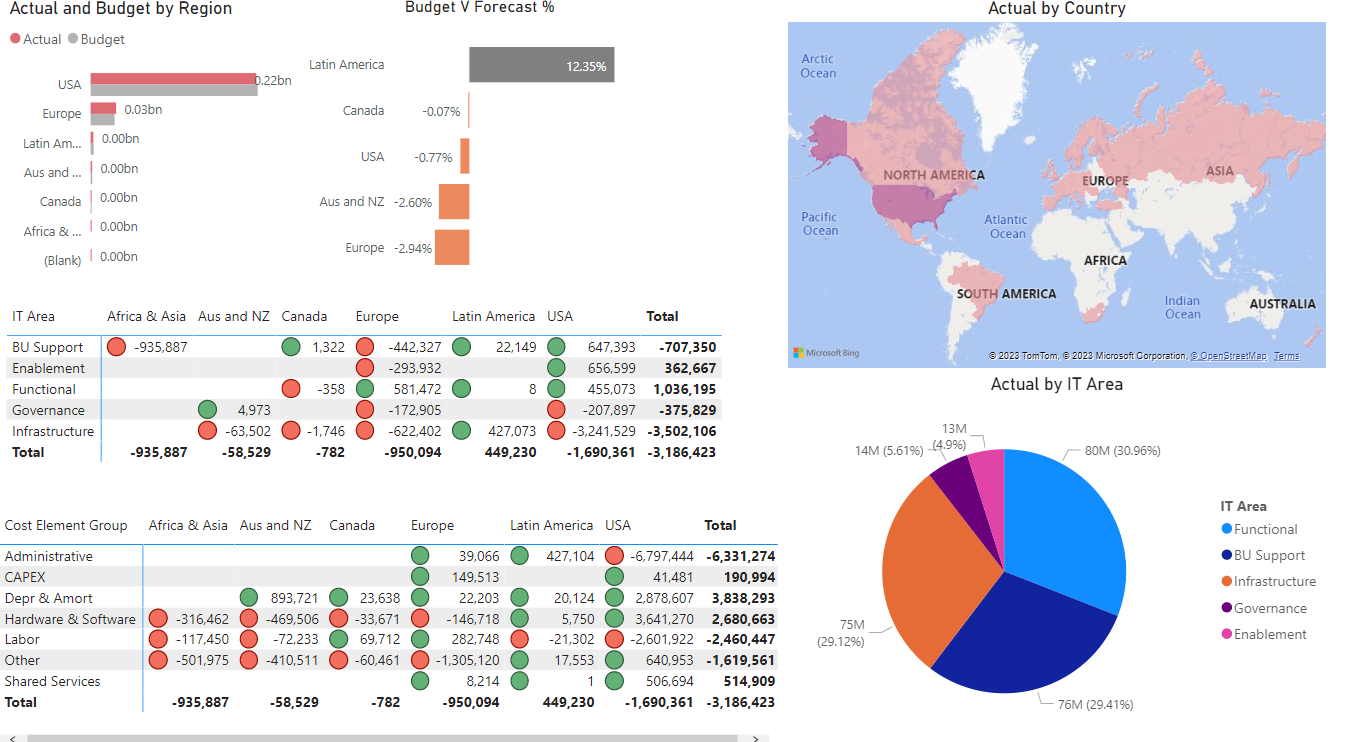

What the dashboard file says about the page in this screenshot:
{"tool":"powerbi","page":{"name":"Regions","canvas":[1280,720],"ordinal":1},"visuals":[{"type":"clusteredBarChart","fields":{"Category":["Regions.Region"],"Y":["Sum(Actuals.Actual)","Sum(Budget.Budget)"]},"box":[10,0,280,280],"z":0},{"type":"clusteredBarChart","title":"Budget V Forecast %","fields":{"Category":["Regions.Region"],"Y":["Budget.Budget V Forecast %"]},"box":[289.7,0,350.8,279.9],"z":1000},{"type":"pivotTable","fields":{"Rows":["Departments.IT Area"],"Columns":["Regions.Region"],"Values":["Budget.Budget V Forecast"]},"box":[7.3,289.7,748.1,199.3],"z":1001},{"type":"pivotTable","fields":{"Rows":["CostElements.Cost Element Group"],"Columns":["Regions.Region"],"Values":["Budget.Budget V Forecast"]},"box":[0,489,755.4,231],"z":1002},{"type":"filledMap","fields":{"Category":["Actuals.Country"]},"box":[755,0,525,360],"z":1003},{"type":"pieChart","fields":{"Y":["Sum(Actuals.Actual)"],"Category":["Departments.IT Area"]},"box":[755,360,525,360],"z":1004}]}

Visuals, with their boxes on the page's 1280x720 design canvas (x1, y1, x2, y2). These are canvas units, not pixel positions in the 1372x742 screenshot, which may show the page scaled, cropped or inside an application window:
clusteredBarChart - Regions.Region x Sum(Actuals.Actual): box(10, 0, 290, 280)
"Budget V Forecast %" clusteredBarChart: box(290, 0, 640, 280)
pivotTable - Departments.IT Area x Regions.Region: box(7, 290, 755, 489)
pivotTable - CostElements.Cost Element Group x Regions.Region: box(0, 489, 755, 720)
filledMap - Actuals.Country: box(755, 0, 1280, 360)
pieChart - Sum(Actuals.Actual) x Departments.IT Area: box(755, 360, 1280, 720)
